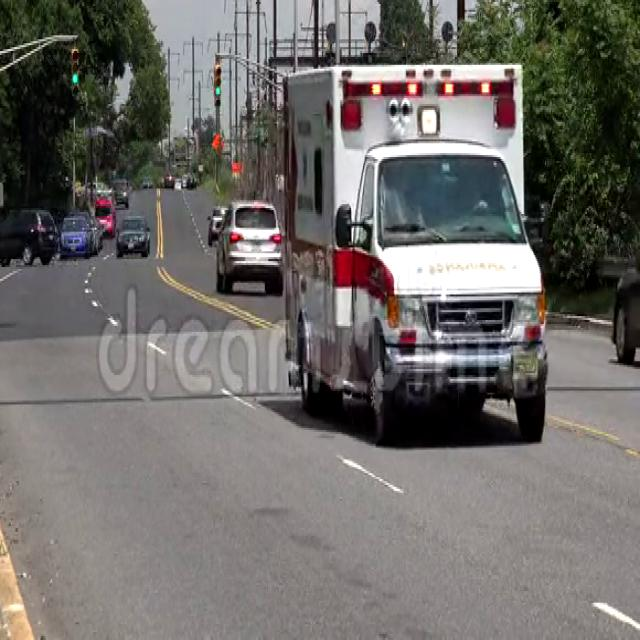ambulance: (280, 59, 548, 442)
